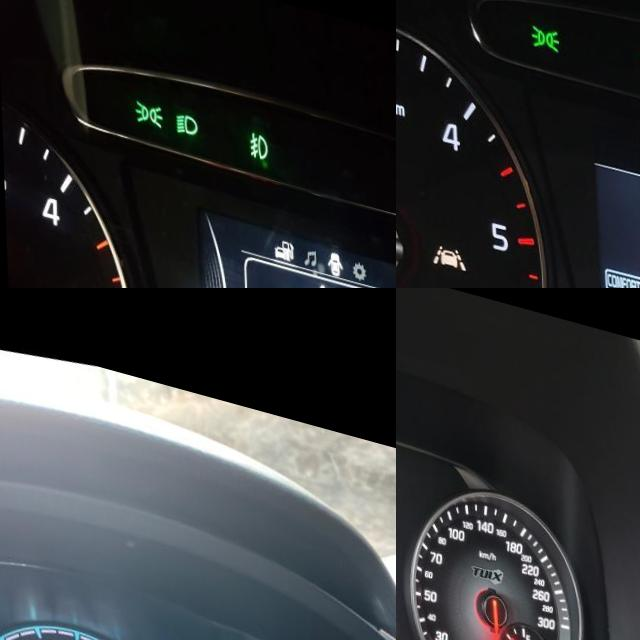FrontFogLight: (247, 115, 267, 148)
LaneCenteringOff: (428, 235, 462, 263)
Low beam: (174, 101, 197, 128)
SideLamp: (133, 90, 161, 121), (529, 10, 558, 39)
